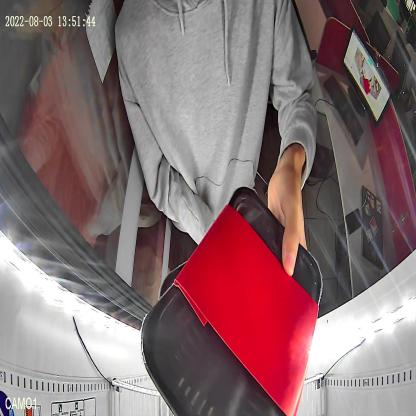red: (141, 185, 324, 416)
undefined: (158, 256, 188, 302)
